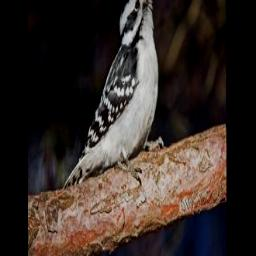Woodpecker: (64, 0, 168, 188)
